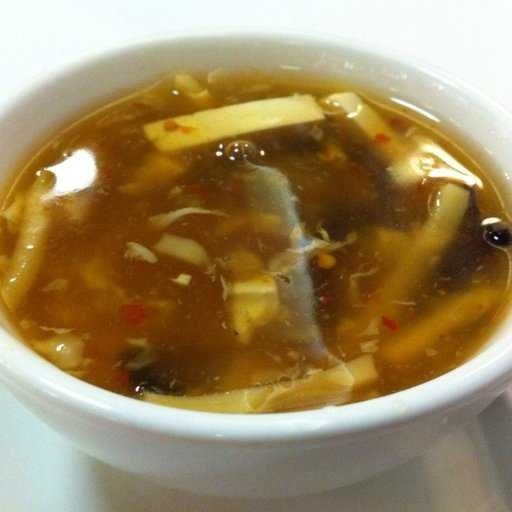soup: (1, 47, 495, 435)
